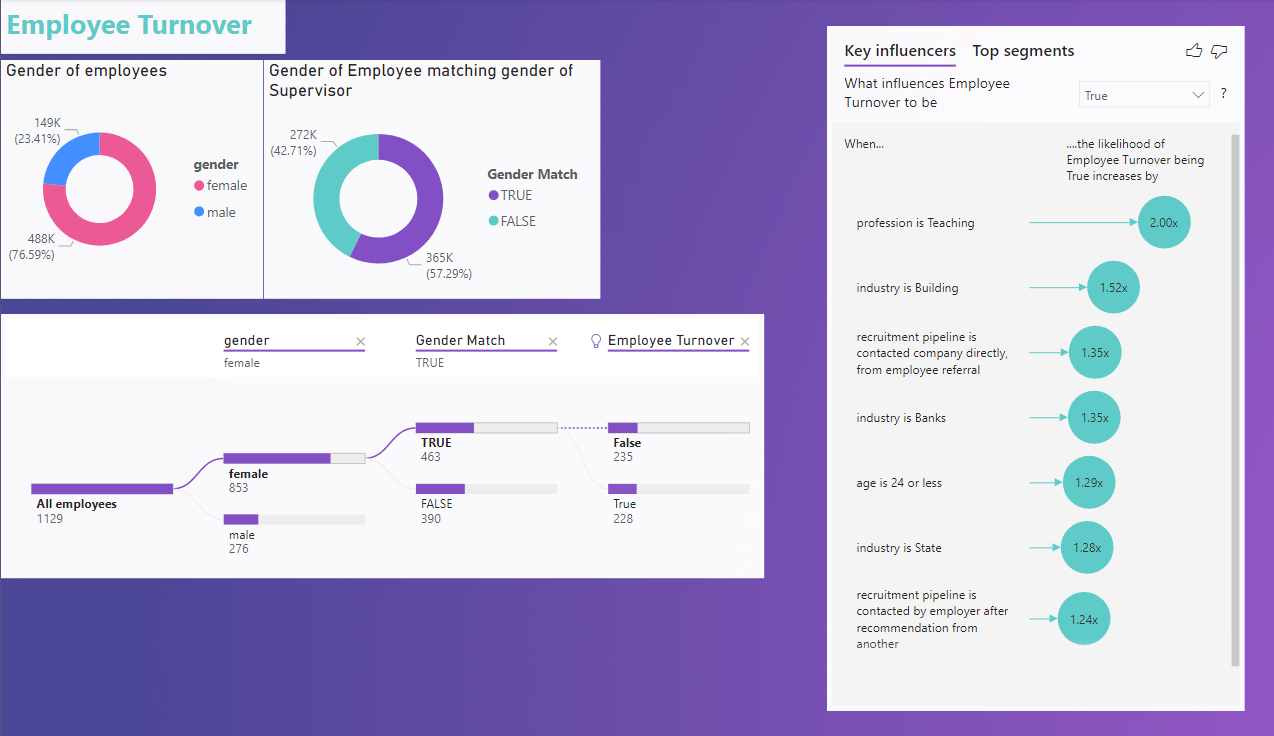

The dashboard page shown, as its layout file describes it:
{"tool":"powerbi","page":{"name":"Page 1","canvas":[1280,800],"ordinal":0},"visuals":[{"type":"textbox","box":[0,0,280.5,54],"z":0},{"type":"donutChart","title":"Gender of employees","fields":{"Category":["turnover.gender"],"Y":["Sum(turnover.Index)"]},"box":[0,59.8,258.3,235.2],"z":1000},{"type":"keyDriversVisual","fields":{"Target":["turnover.Employee Turnover"],"ExplainBy":["Sum(turnover.age)","turnover.coach during probation","Sum(turnover.Experience in months)","turnover.gender","turnover.industry","turnover.taxation status","turnover.profession","turnover.recruitment pipeline","turnover.supervisor/manager gender"]},"box":[812.5,27,410.6,673.7],"z":2000},{"type":"donutChart","title":"Gender of Employee matching gender of Supervisor","fields":{"Category":["turnover.Gender Match"],"Y":["Sum(turnover.Index)"]},"box":[258.3,59.8,330.6,235.2],"z":3000},{"type":"decompositionTreeVisual","fields":{"ExplainBy":["turnover.gender","turnover.Gender Match","turnover.Employee Turnover"],"Analyze":["CountNonNull(turnover.Index)"]},"box":[0,310,750.8,259.8],"z":4000}]}

Visuals, with their boxes on the page's 1280x800 design canvas (x1, y1, x2, y2). These are canvas units, not pixel positions in the 1274x736 screenshot, which may show the page scaled, cropped or inside an application window:
textbox: [left=0, top=0, right=280, bottom=54]
"Gender of employees" donutChart: [left=0, top=60, right=258, bottom=295]
keyDriversVisual - turnover.Employee Turnover x Sum(turnover.age): [left=812, top=27, right=1223, bottom=701]
"Gender of Employee matching gender of Supervisor" donutChart: [left=258, top=60, right=589, bottom=295]
decompositionTreeVisual - turnover.gender x turnover.Gender Match: [left=0, top=310, right=751, bottom=570]
